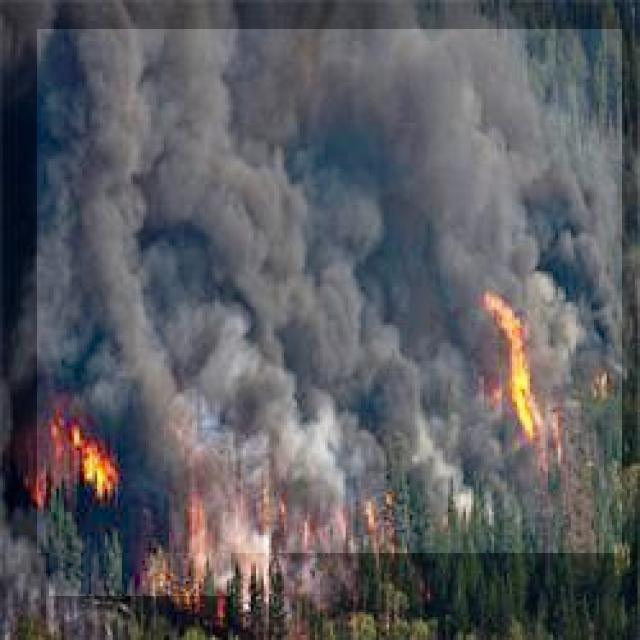Fire: (50, 414, 232, 596), (465, 300, 548, 457)
Smoke: (37, 29, 622, 553)
